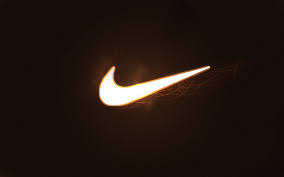nike: (88, 38, 235, 112)
